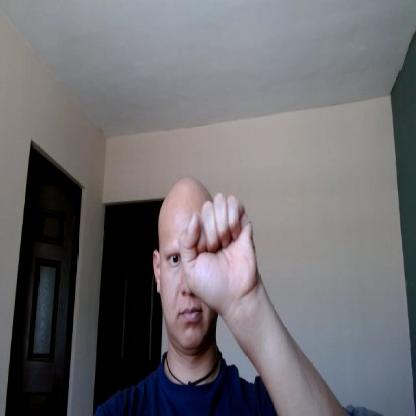S: (179, 191, 257, 310)
